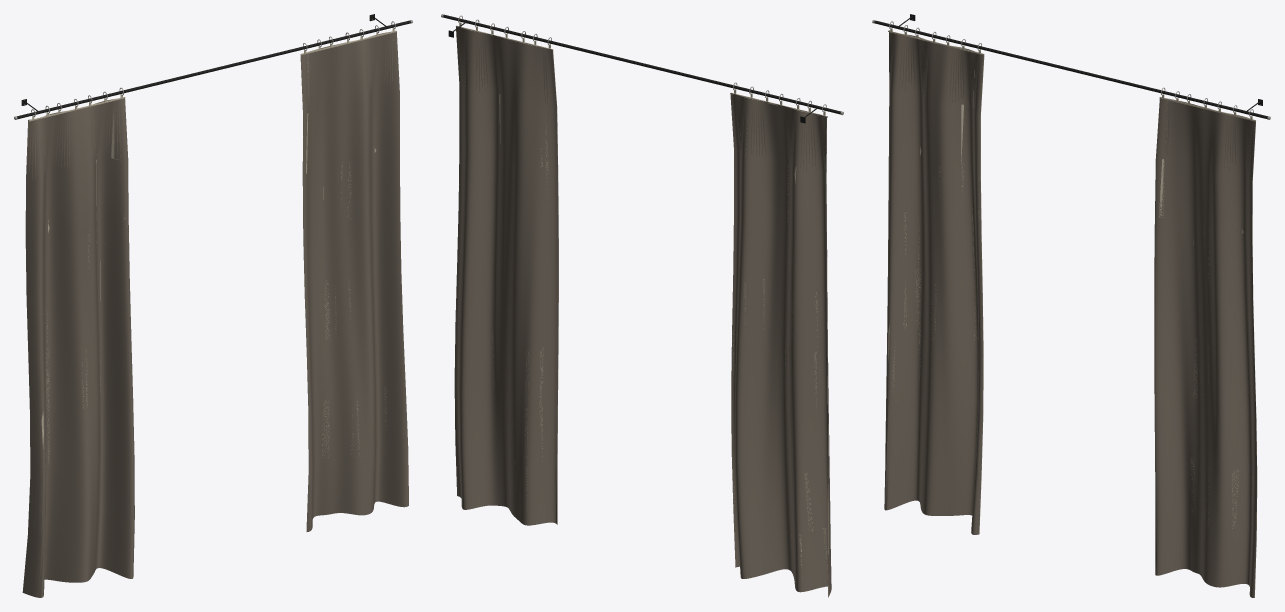
Rendered from bedroom-curtain-pair-89610ecbcb99.glb.
3 renders of one model, left to right at view 1: azimuth 30°, elevation 25°; view 2: azimuth 150°, elevation 25°; view 3: azimuth 330°, elevation 25°, orthographic.
Parts seen in each view (by area): view 1: cover-cloth, cloth-cream, enamel-black; view 2: cover-cloth, cloth-cream, enamel-black; view 3: cover-cloth, cloth-cream, enamel-black.
Boxes of the visible parts, x1,y1,x2,y2 form: cover-cloth: [23, 32, 408, 597]; cloth-cream: [22, 28, 403, 592]; enamel-black: [17, 14, 410, 119]; cover-cloth: [454, 26, 831, 596]; cloth-cream: [455, 22, 828, 597]; enamel-black: [443, 14, 840, 123]; cover-cloth: [884, 30, 1256, 597]; cloth-cream: [888, 28, 1257, 597]; enamel-black: [874, 14, 1267, 119].
Size of the model in its own units: 2.4 by 2.8 by 0.2492.
